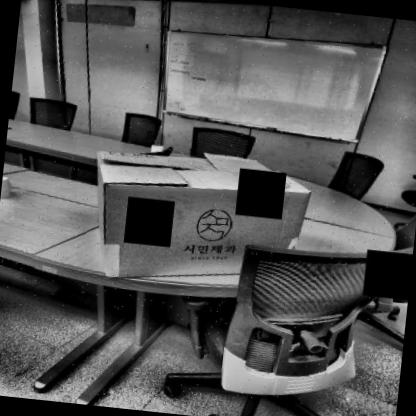box: (81, 138, 326, 307)
